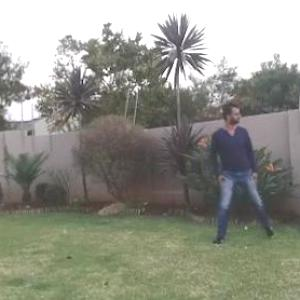follow: (212, 93, 256, 247)
